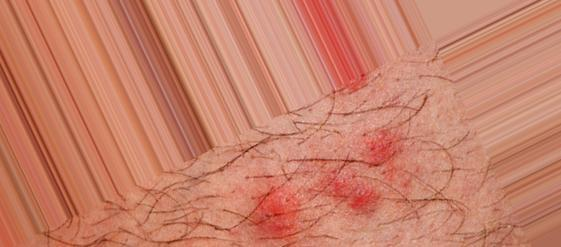Fleas: (317, 160, 385, 224), (250, 187, 302, 239), (357, 126, 403, 170)
